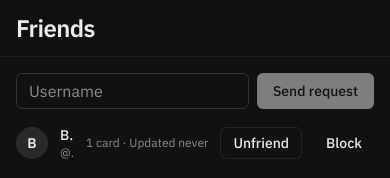
Test case: a friend's binder › a hidden list reads as an empty one, and a failure too
The width and height of the screenshot is (390, 178).
Click the button "B Bob @bob 1 card · Updated never" at (112, 143), box [16, 125, 208, 161]
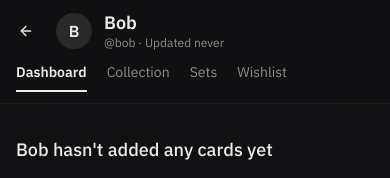
Click the radio button labelled "Wishlist" at (262, 76), box [237, 62, 287, 92]
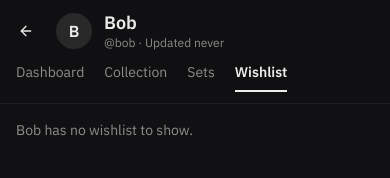
Expected: the text "Bob has no wishlist to show." is shown, [16, 120, 193, 138]
